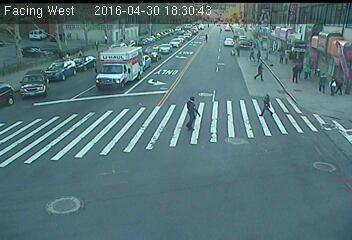neg: (128, 98, 151, 129), (301, 110, 321, 136), (324, 34, 342, 58), (321, 111, 339, 135), (103, 70, 119, 91), (49, 65, 64, 85), (225, 65, 239, 83), (303, 33, 316, 50), (44, 32, 56, 49), (269, 27, 281, 43), (8, 46, 20, 62), (277, 27, 288, 42), (8, 27, 19, 42), (77, 24, 88, 37), (28, 78, 38, 91), (312, 24, 322, 37), (212, 51, 221, 64), (132, 51, 141, 63), (215, 35, 223, 46), (243, 35, 251, 46), (109, 29, 117, 39), (185, 34, 193, 44), (70, 32, 78, 41), (222, 23, 229, 32)
pos: (179, 95, 206, 132), (258, 91, 278, 118), (254, 63, 270, 85), (315, 71, 331, 93), (290, 64, 305, 84), (326, 76, 341, 96), (278, 49, 289, 64), (248, 47, 258, 61), (93, 39, 103, 52), (233, 44, 243, 56), (102, 34, 111, 45), (203, 33, 211, 44)
